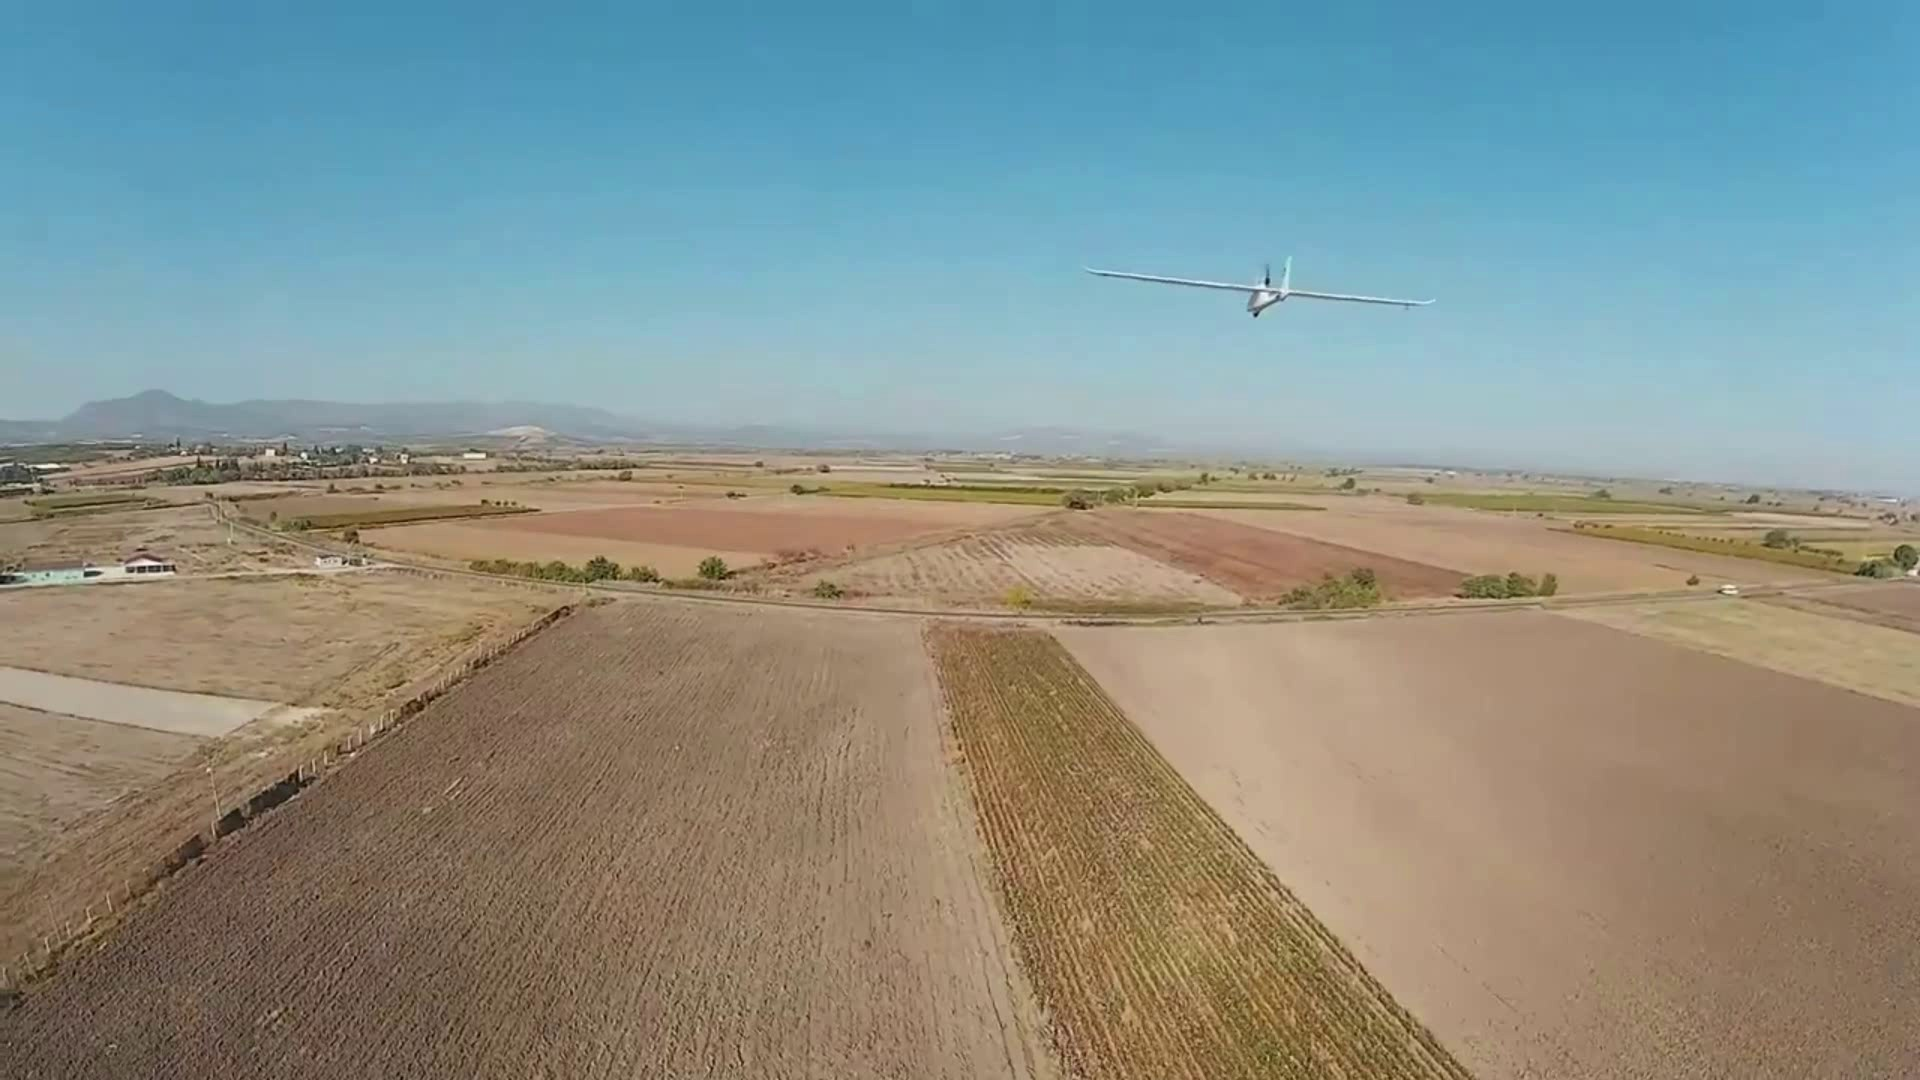airplane: (1087, 257, 1433, 316)
